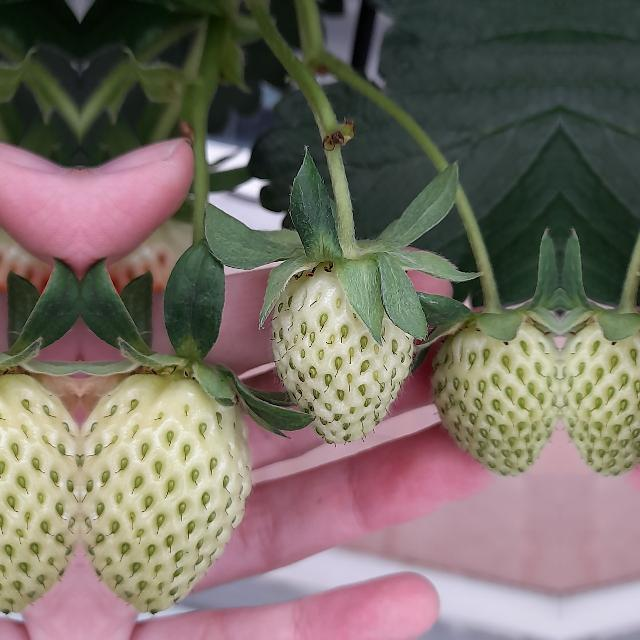Health_25: (80, 368, 252, 616), (272, 261, 412, 444), (432, 310, 560, 476), (0, 367, 80, 616), (560, 310, 640, 475)
